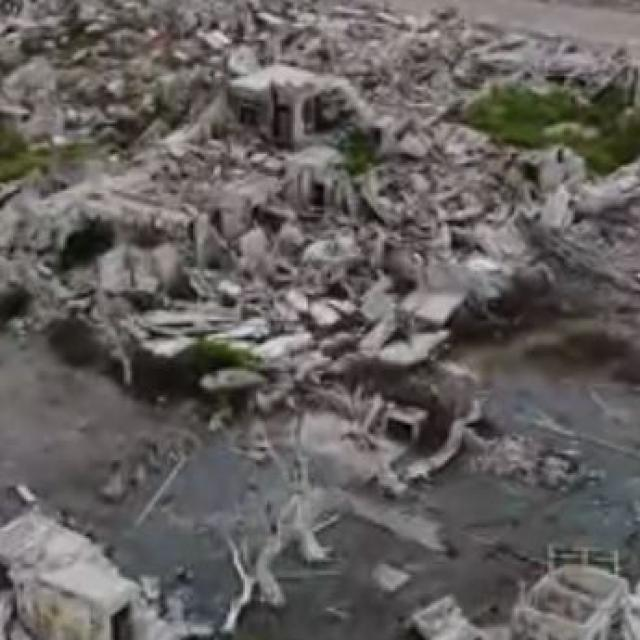collapsed_building: (0, 0, 512, 369)
